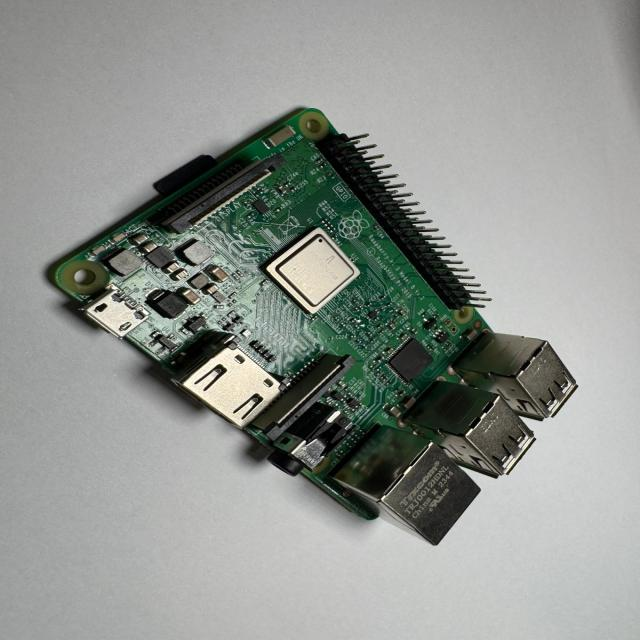CPU: (269, 230, 361, 316)
Ethernet: (328, 423, 486, 552)
GPIO: (315, 131, 494, 314)
HDMI: (177, 331, 294, 435)
RAM-3: (382, 337, 436, 384)
Raspberry: (44, 108, 579, 548)
